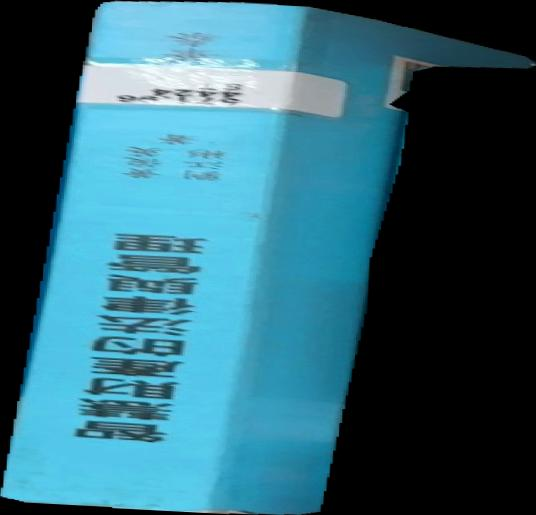reverse: (1, 1, 536, 515)
